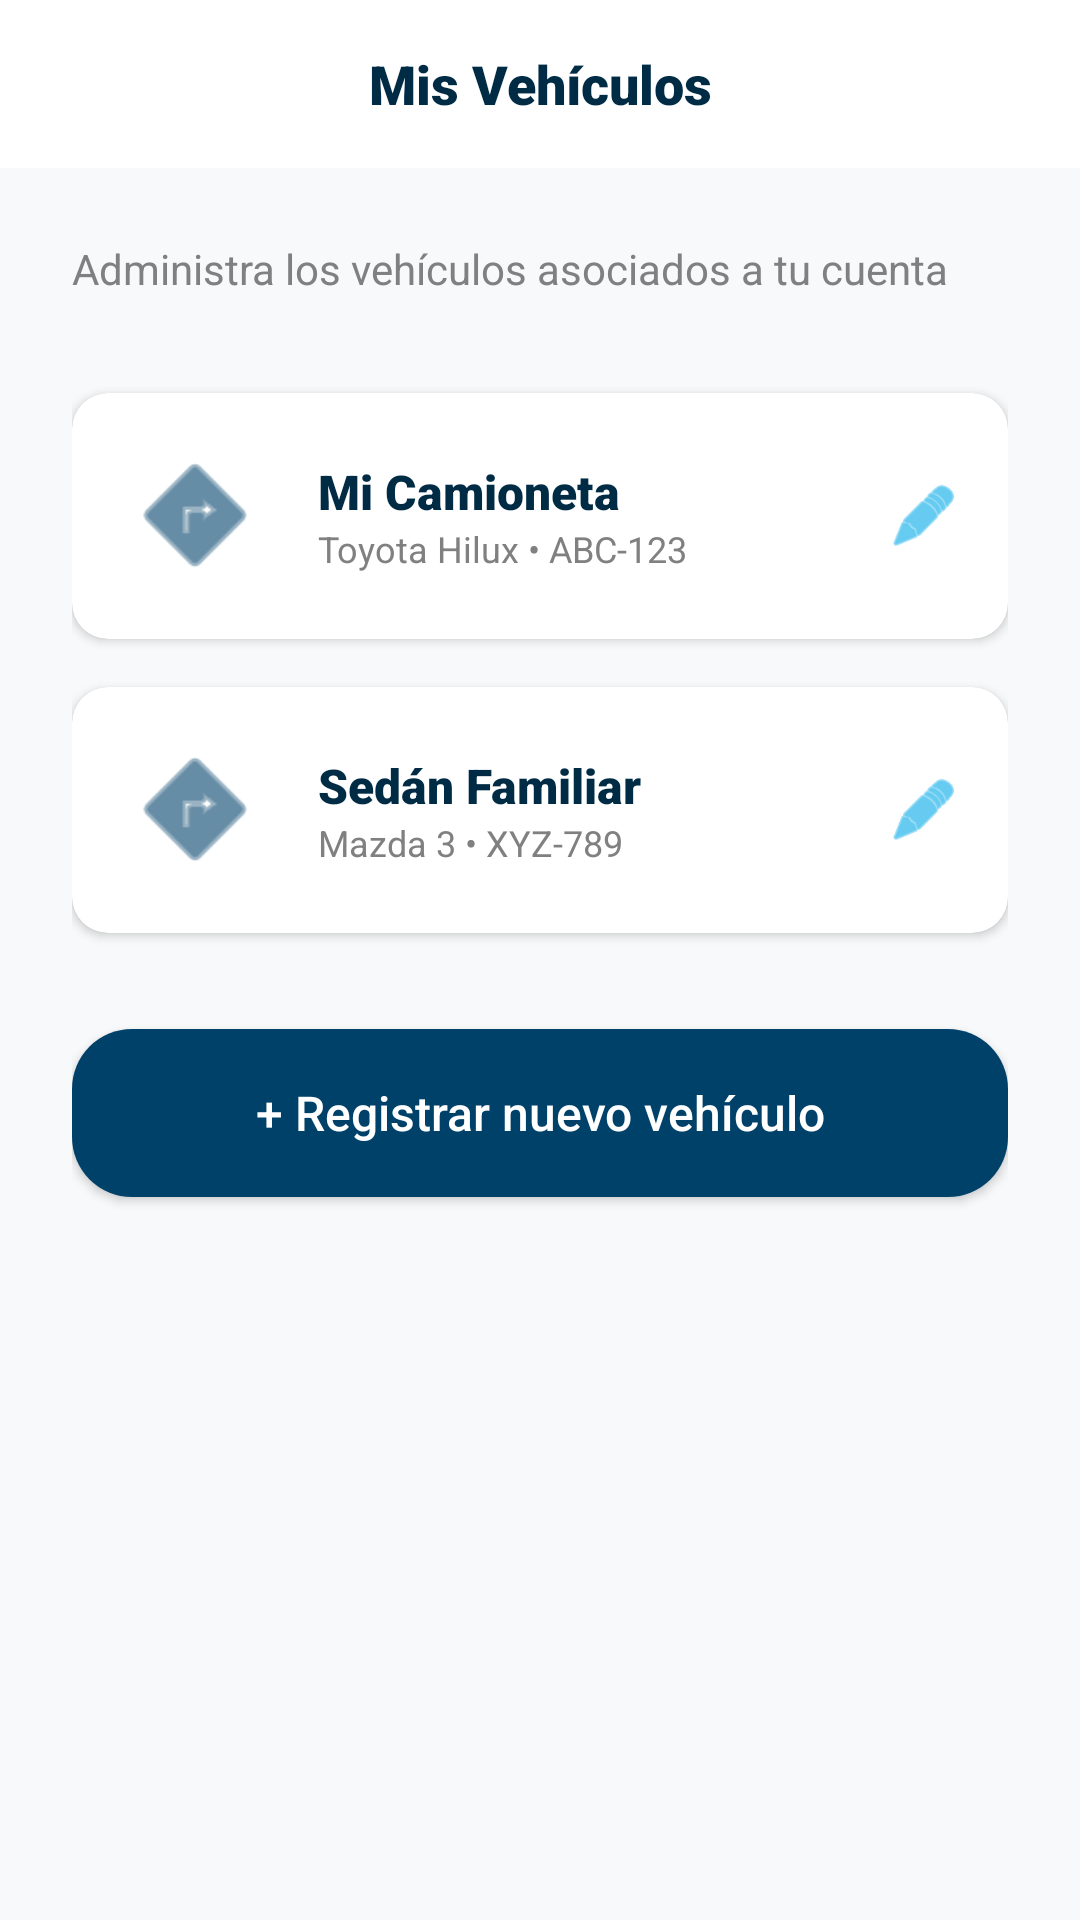

Named icons in this screenshot (1080px×1920px) and their centers, (x,y):
directions: (195,515), (195,809)
edit: (923,515), (923,809)
